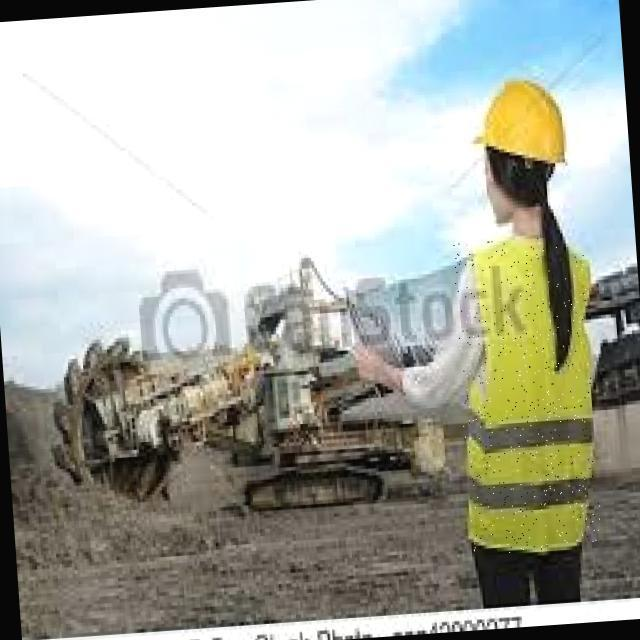helmet: (467, 77, 577, 176)
vest: (450, 232, 604, 557)
